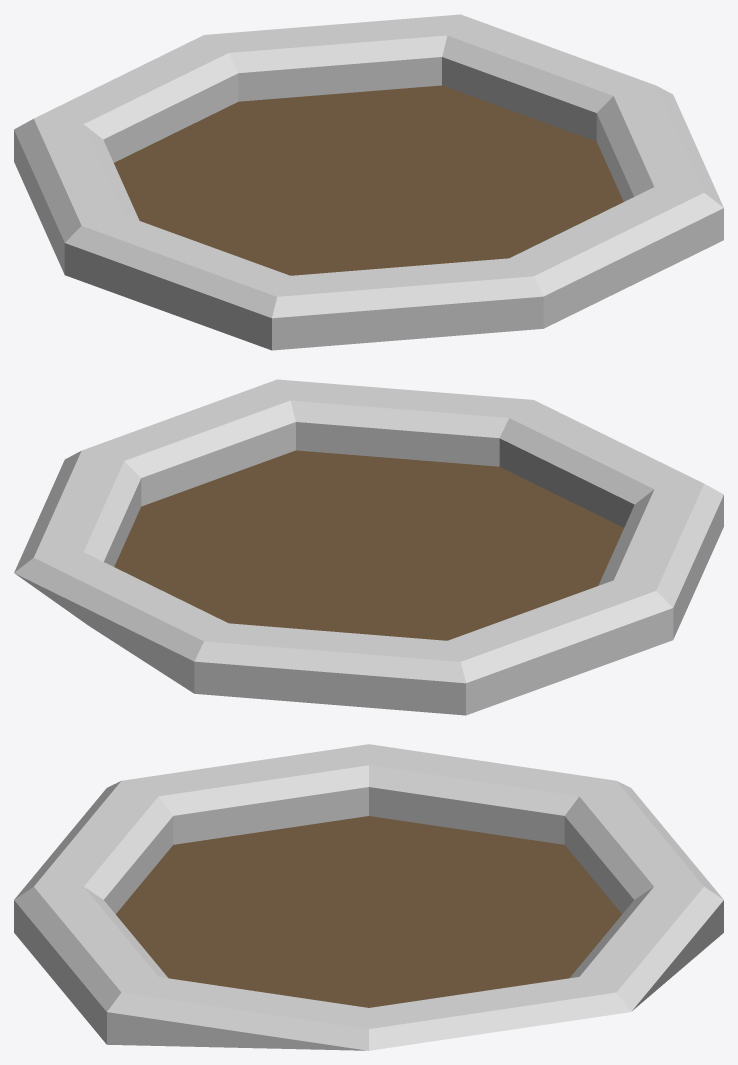
Rendered from jardinera_circular.fbx.
3 views of the same model, one above another, from view 1: azimuth 30°, elevation 25°; view 2: azimuth 150°, elevation 25°; view 3: azimuth 270°, elevation 25° (orthographic).
Visible parts, largest first — view 1: jardinera_circular; view 2: jardinera_circular; view 3: jardinera_circular.
Boxes of the visible parts, x1=… form: jardinera_circular: x1=14, y1=14, x2=723, y2=350; jardinera_circular: x1=14, y1=379, x2=723, y2=715; jardinera_circular: x1=14, y1=744, x2=723, y2=1050.
Bounding box in the file's own units: 199 × 14.15 × 198.
